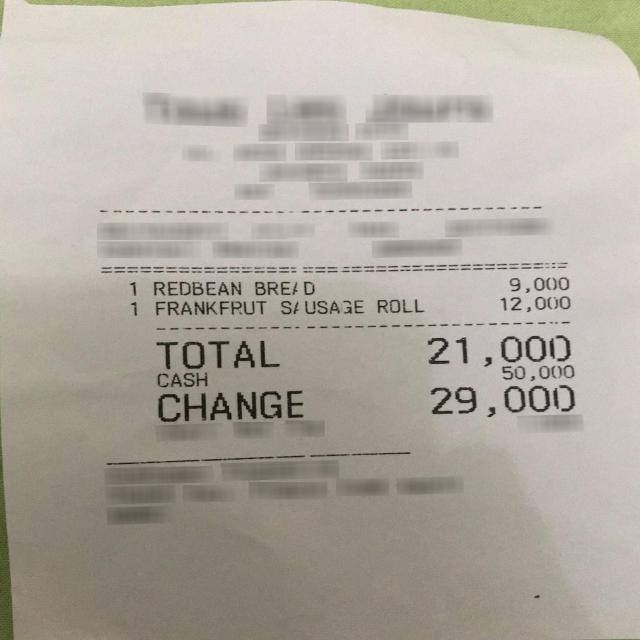text: (430, 385, 574, 418), (427, 334, 568, 367), (156, 391, 304, 422), (156, 341, 278, 368), (155, 300, 266, 316), (154, 281, 241, 296), (280, 300, 364, 315), (501, 364, 574, 380), (500, 296, 570, 312), (508, 276, 569, 293), (255, 282, 314, 296), (156, 372, 207, 387), (377, 300, 424, 312), (130, 282, 137, 296), (130, 302, 137, 316)
